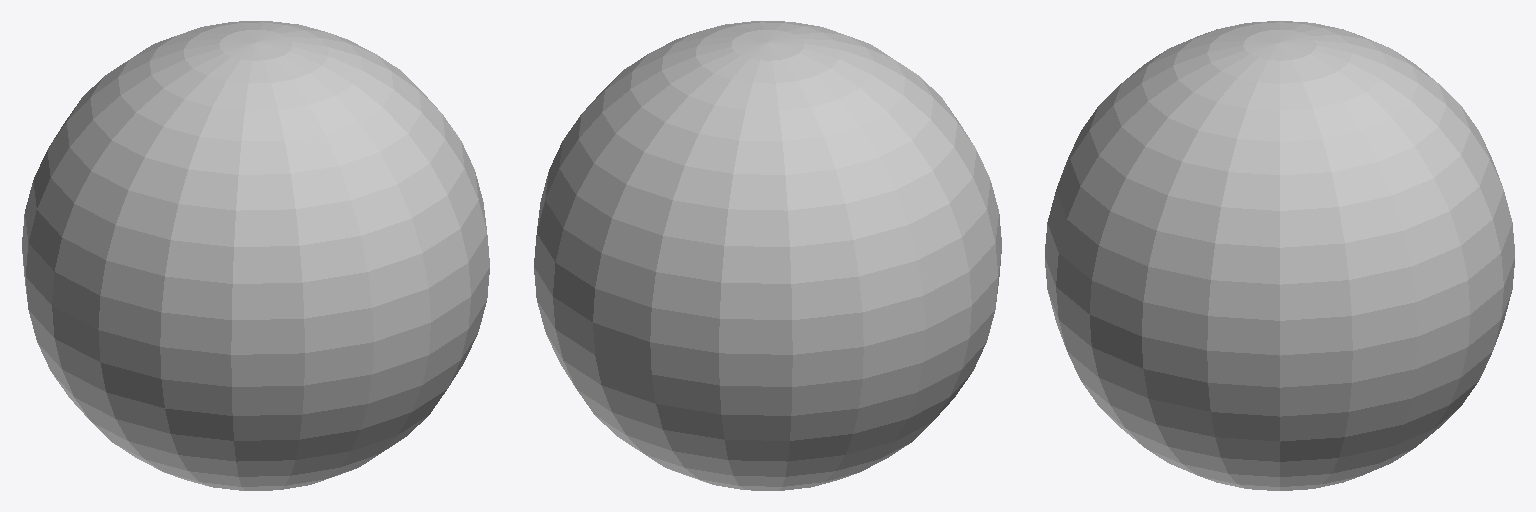
Rendered from hal_robot2.obj.
3 views of the same model, side by side, from view 1: azimuth 30°, elevation 25°; view 2: azimuth 150°, elevation 25°; view 3: azimuth 270°, elevation 25° (orthographic).
Parts seen in each view (by area): view 1: pSphere2; view 2: pSphere2; view 3: pSphere2.
Boxes of the visible parts, x1,y1,x2,y2 form: pSphere2: [22, 21, 489, 490]; pSphere2: [534, 21, 1001, 490]; pSphere2: [1045, 21, 1514, 490].
Bounding box in the file's own units: 2 × 2 × 2.